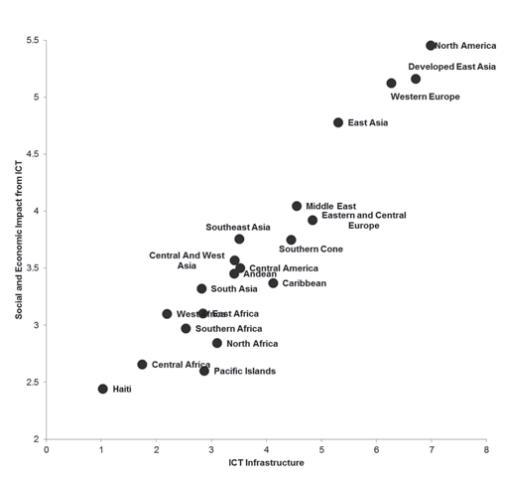axis: (41, 433, 493, 445), (39, 35, 51, 445)
point: (331, 114, 347, 130), (94, 381, 110, 396), (134, 357, 150, 372), (176, 323, 196, 335), (194, 280, 210, 295), (231, 232, 248, 246), (288, 200, 305, 214), (197, 364, 213, 378), (226, 267, 242, 281), (283, 233, 299, 247), (424, 38, 440, 52), (160, 307, 175, 321), (234, 260, 249, 274), (306, 214, 322, 227), (211, 336, 225, 350), (197, 307, 212, 320), (384, 76, 399, 89), (408, 72, 423, 85), (267, 277, 281, 290), (227, 254, 242, 266)
